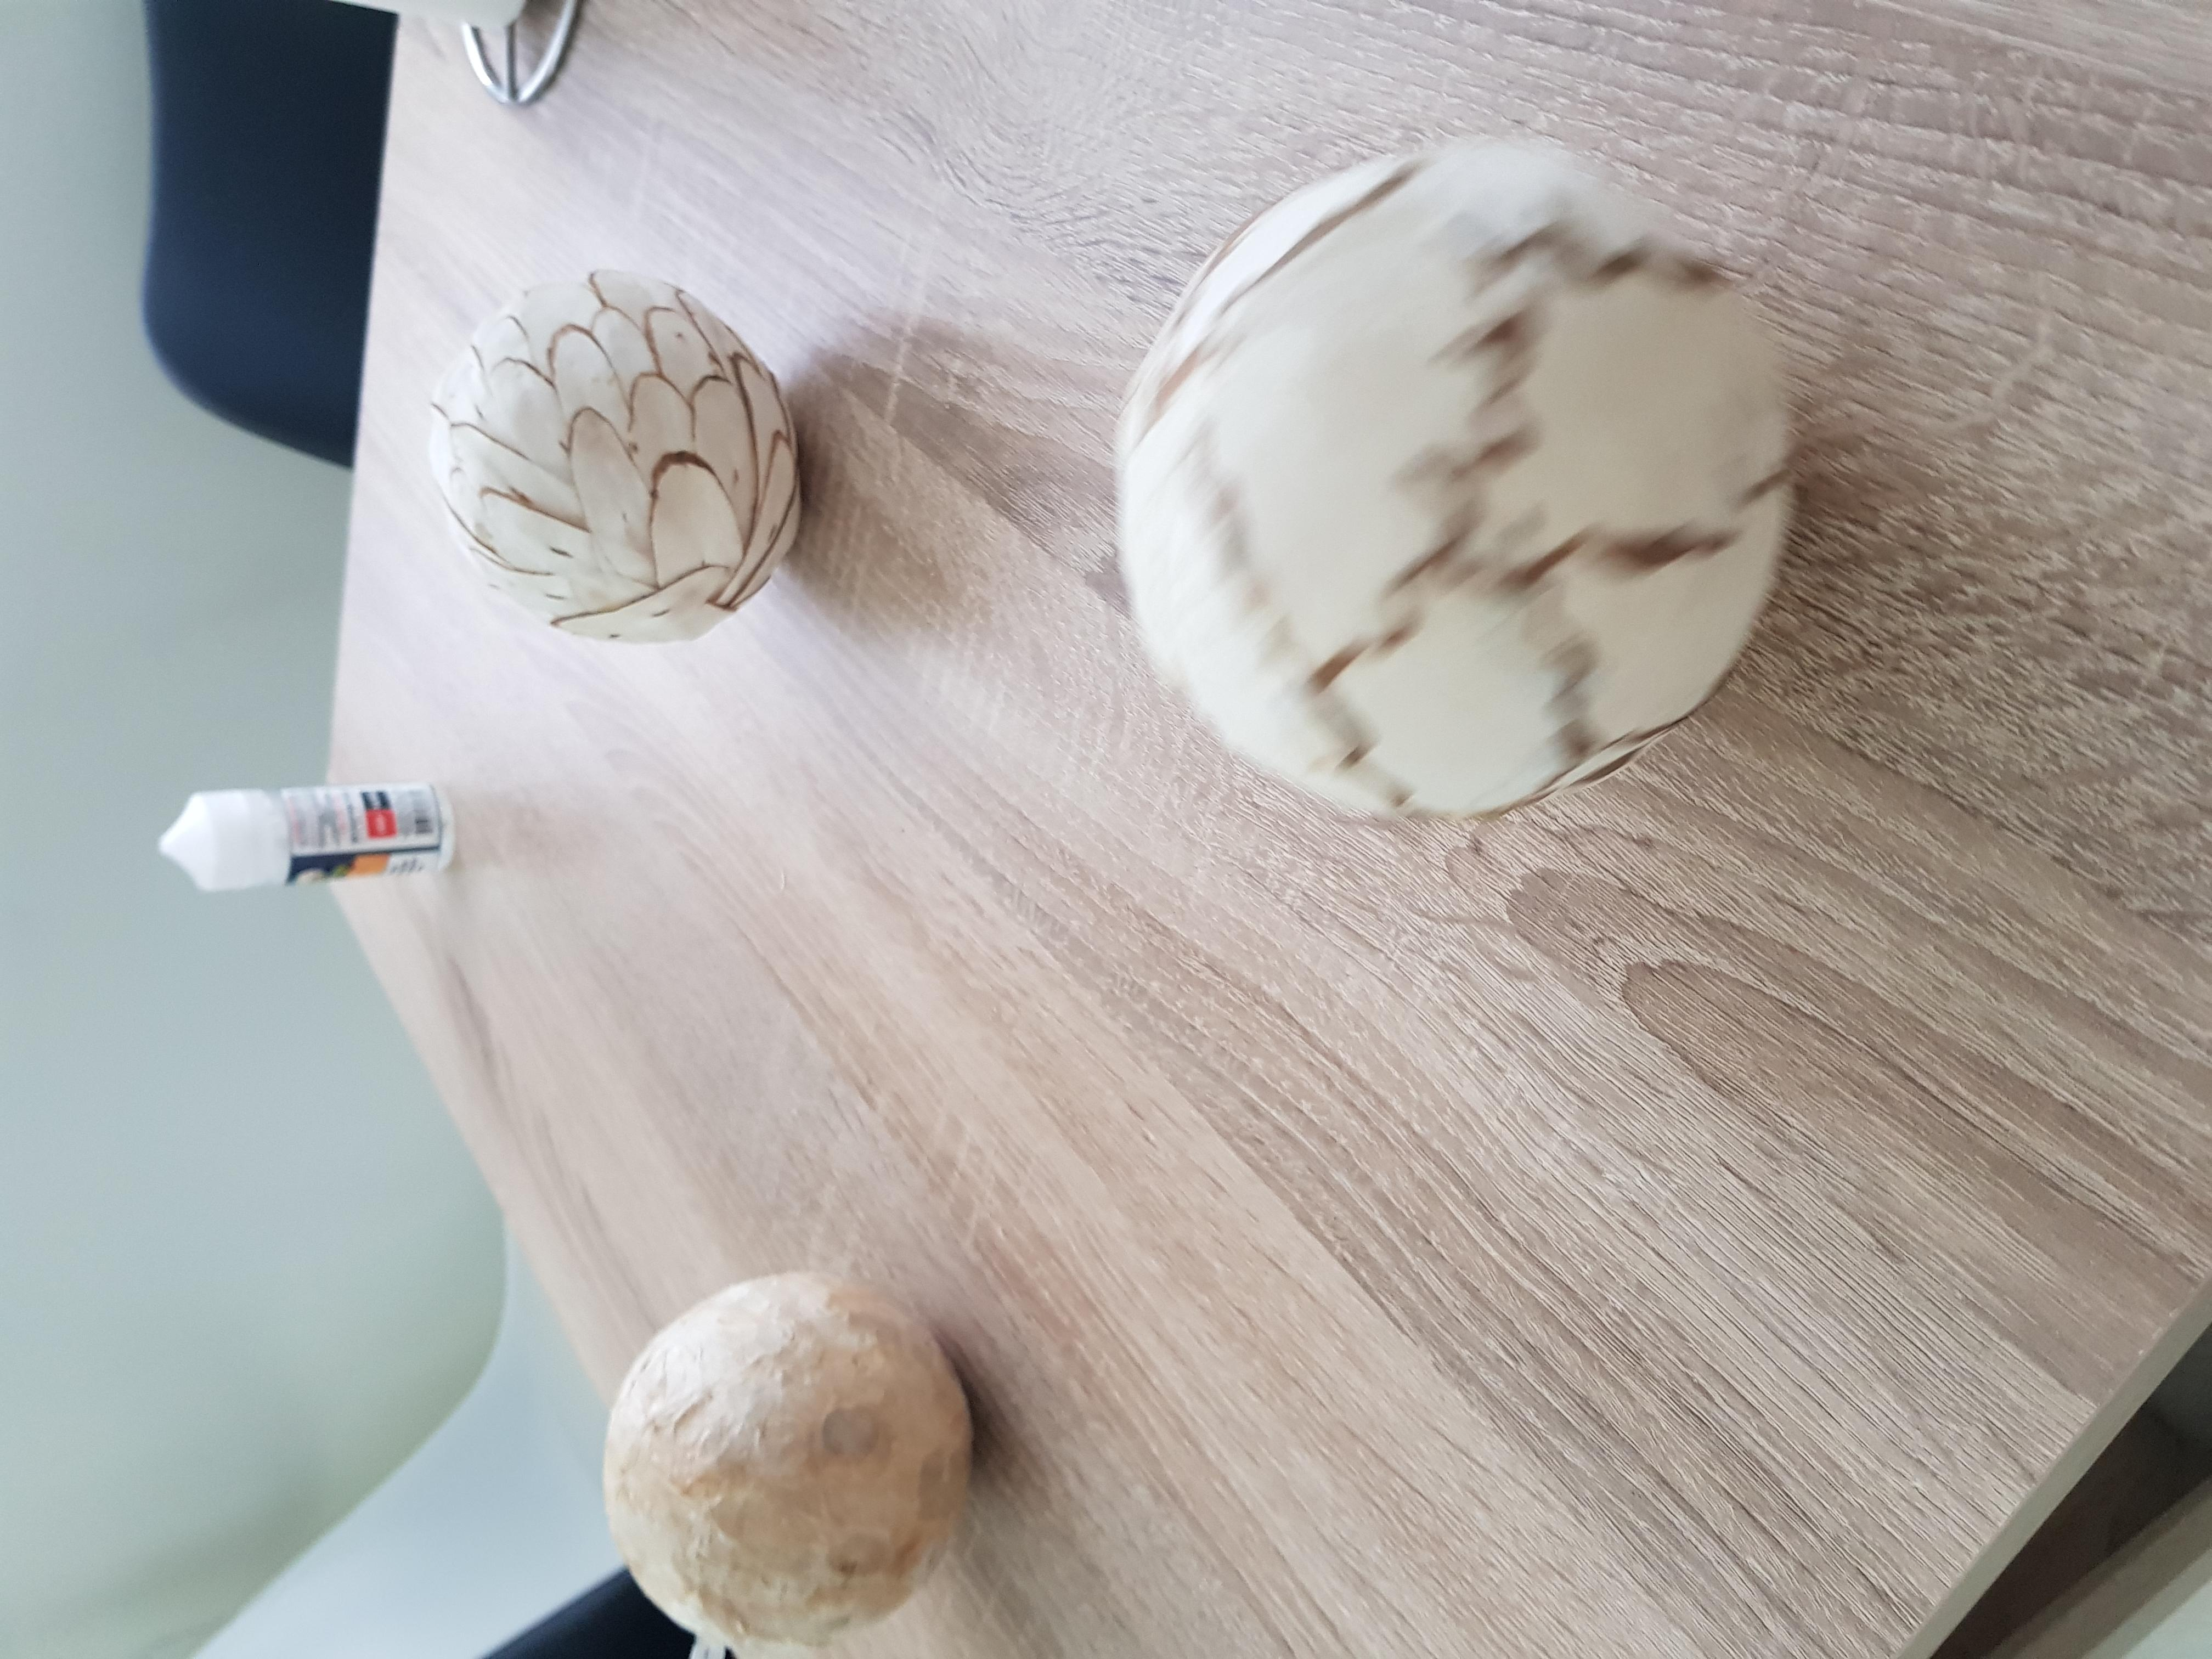Sphere: (1111, 138, 1789, 828), (599, 1269, 986, 1654), (421, 270, 812, 648)
